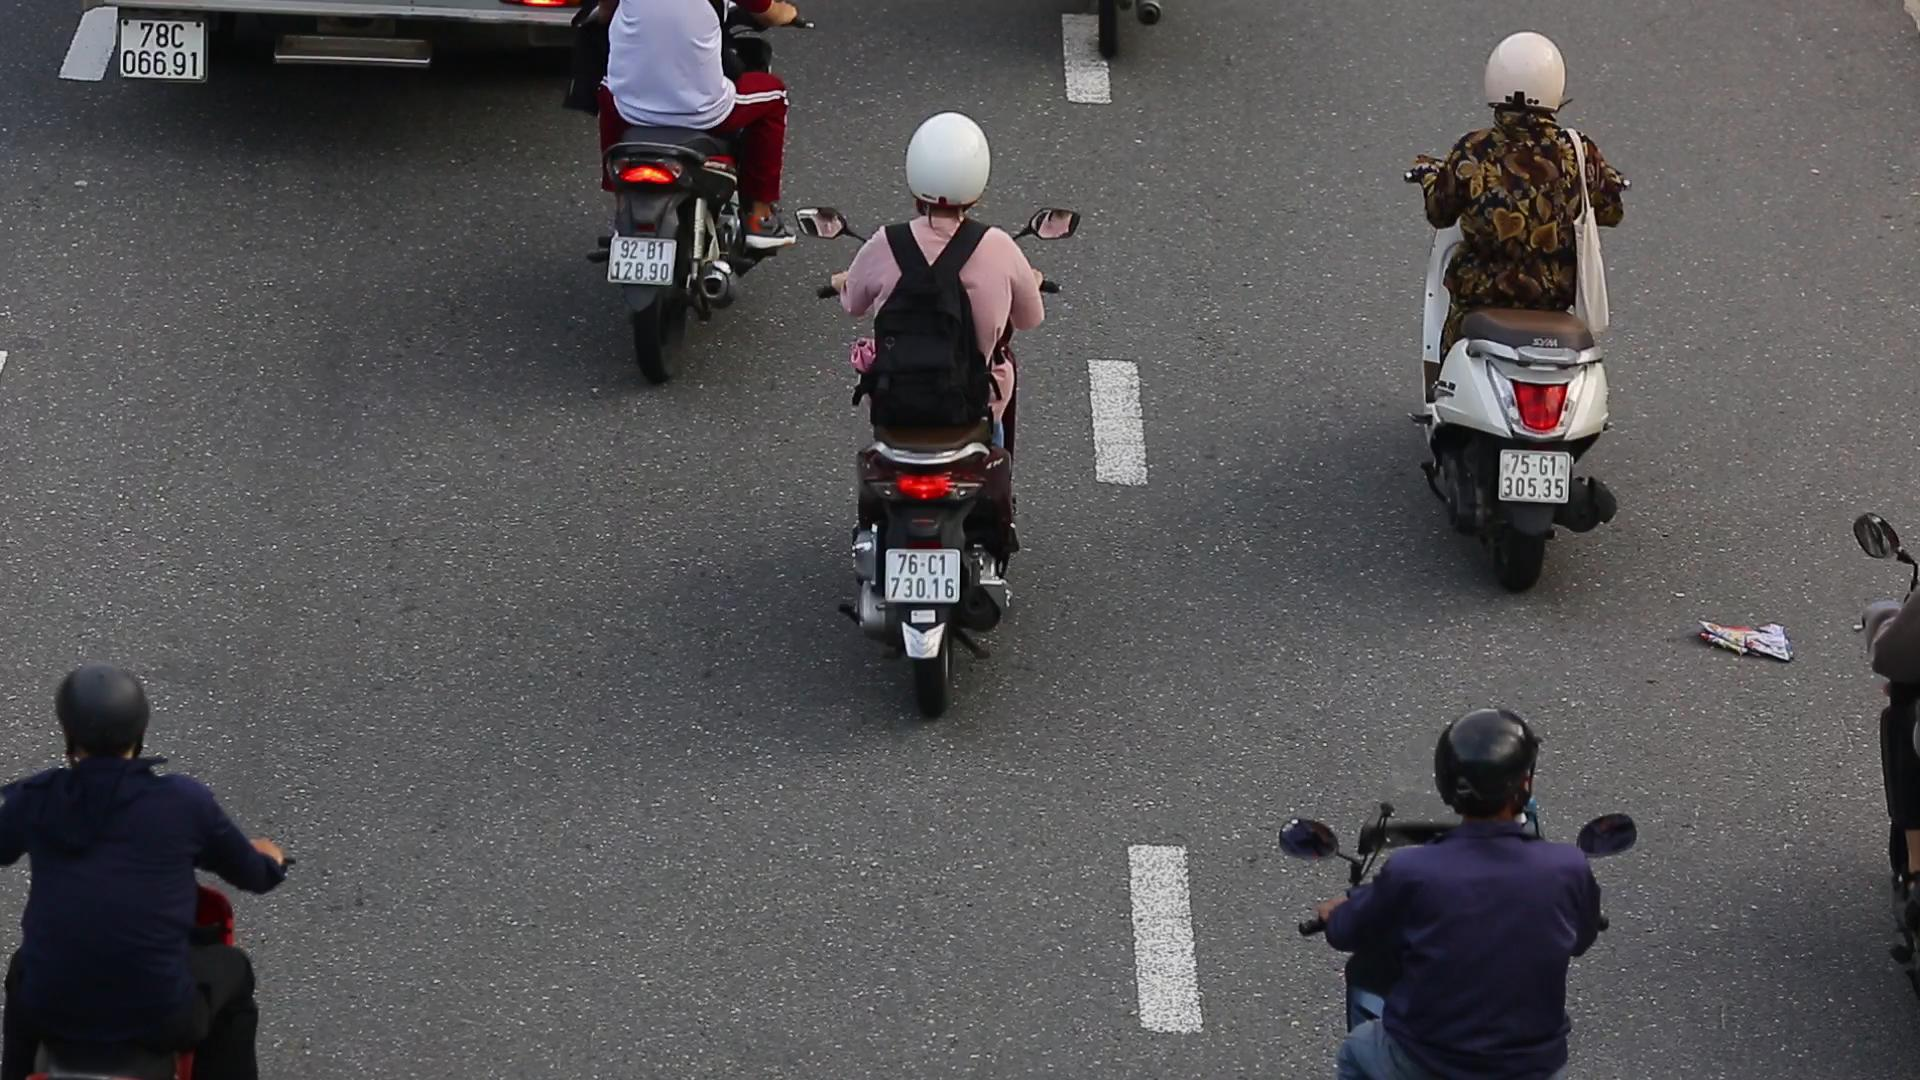motobike: (796, 99, 1085, 725), (1391, 17, 1648, 601)
